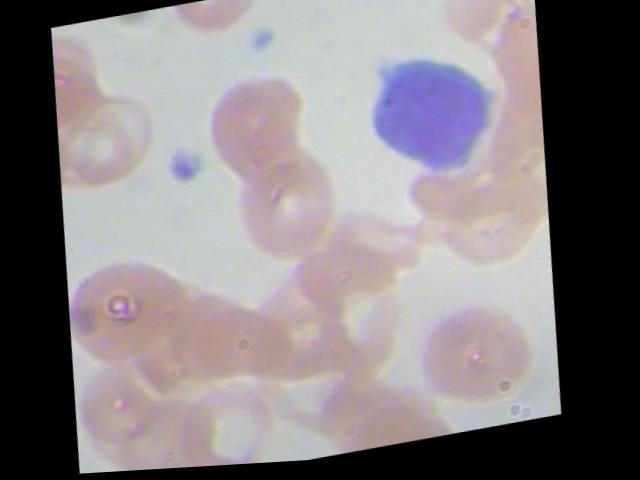Platelets: (163, 140, 213, 194), (235, 20, 285, 74)
Red Blood Cells: (422, 164, 557, 303), (192, 61, 326, 200), (219, 146, 353, 285), (281, 194, 415, 333), (406, 291, 540, 430), (150, 263, 284, 402), (66, 248, 194, 376), (305, 355, 435, 463), (174, 374, 286, 470), (75, 362, 175, 466), (54, 100, 145, 209), (343, 394, 466, 457), (158, 0, 261, 50), (187, 445, 287, 469)
White Blood Cells: (350, 19, 513, 206)
